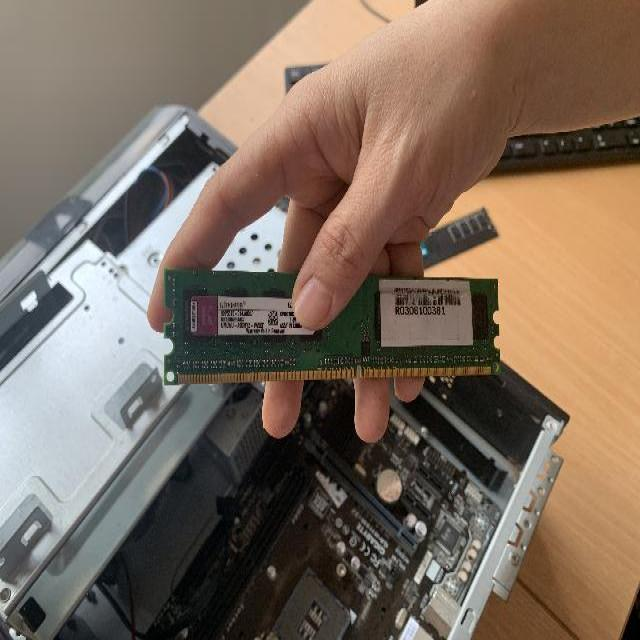RAM: (160, 263, 502, 384)
